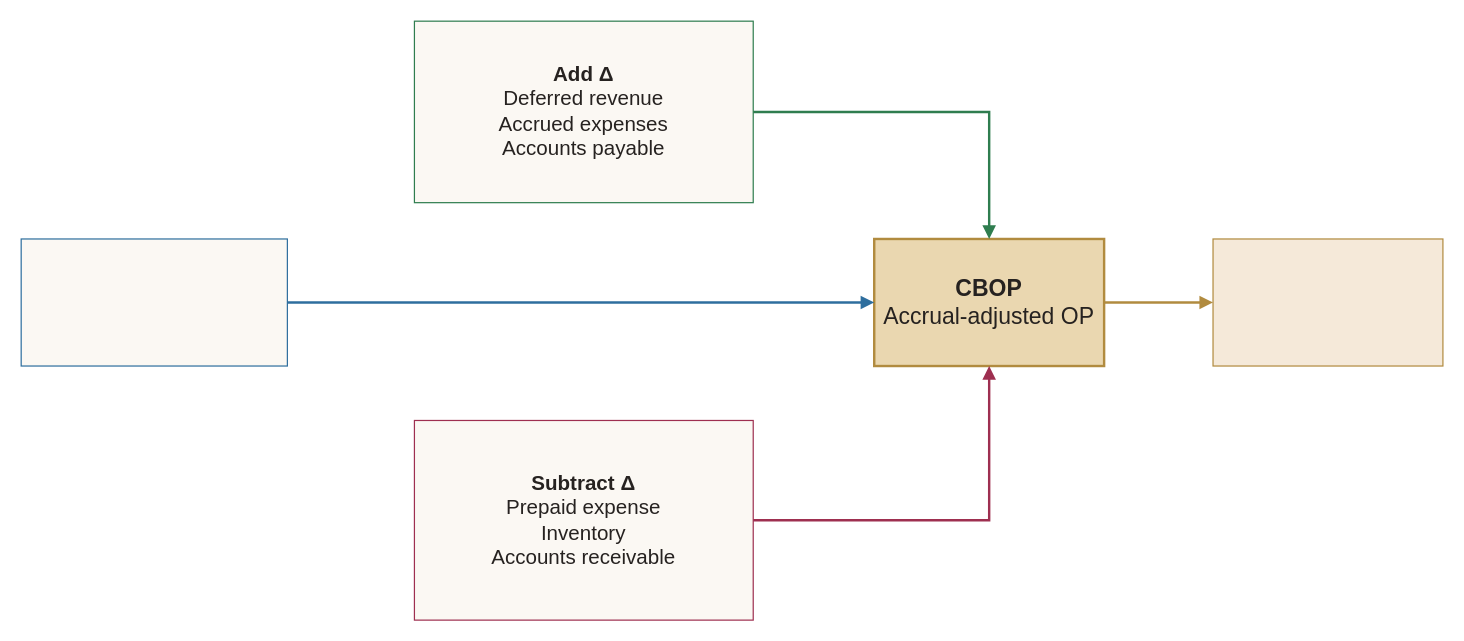
This 1464x641 diagram has some shape labels left out. The shapes that lost their labels are listed below. From the top down, each one's box as (x1, y1, x2, y2) in pixels, then its label:
(20, 238, 287, 366): Operating profit Revenue − COGS − SG&A
(1212, 238, 1443, 366): CBOP / M ÷ market capitalization
